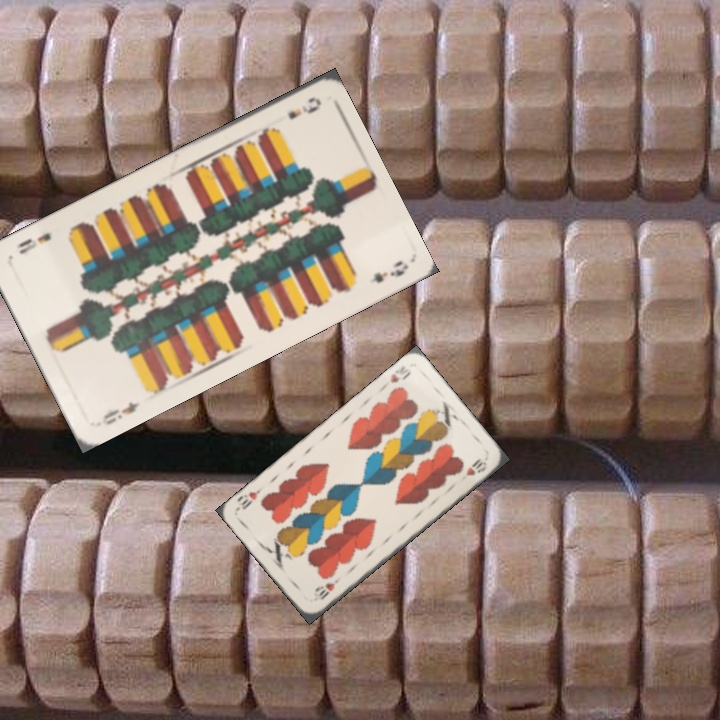E9: (98, 397, 143, 428), (283, 92, 324, 122)
H10: (315, 573, 343, 603), (386, 362, 414, 386)
